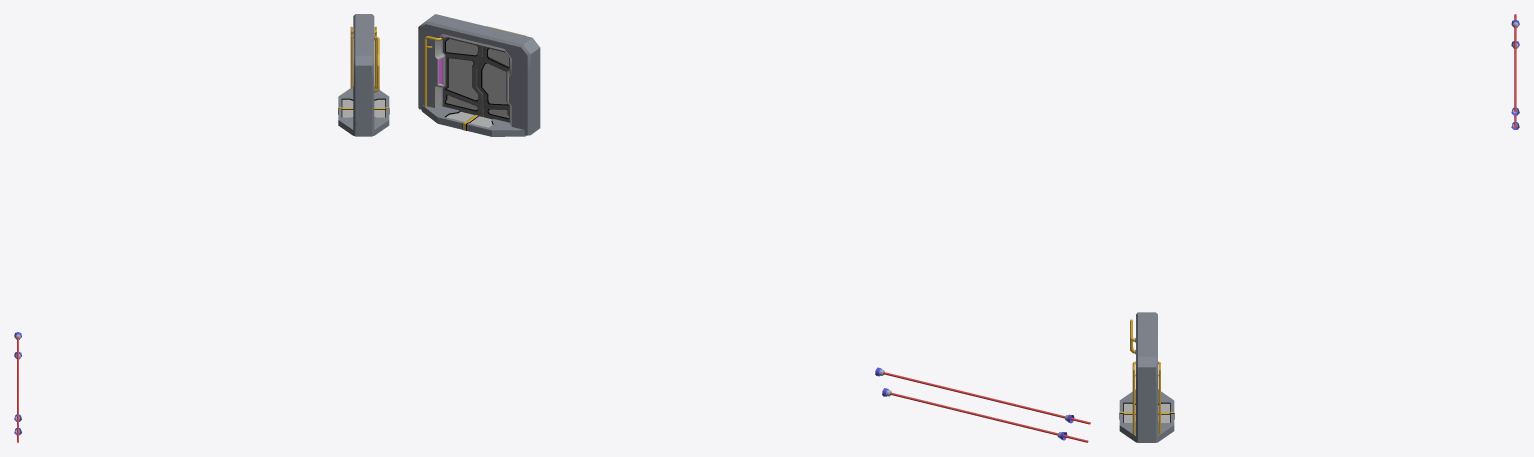
Rendered from Level29_Objects.fbx.
The picture shows the model from 3 angles, left to right: view 1: azimuth 90°, elevation 25°; view 2: azimuth 150°, elevation 25°; view 3: azimuth 270°, elevation 25°; orthographic projection. The views are drawn at different scales.
Visible parts, largest first — view 1: Base, Base5; view 2: Base, Right, Left, Base5; view 3: Base, Base5.
Boxes of the visible parts, x1,y1,x2,y2 form: Base: (353,14,374,136); Base5: (338,86,389,135); Base: (418,14,540,135); Right: (443,37,483,116); Left: (477,46,509,122); Base5: (421,105,526,136); Base: (1136,312,1157,442); Base5: (1119,389,1174,442).
Size of the model in its own units: 420 by 41.91 by 180.
